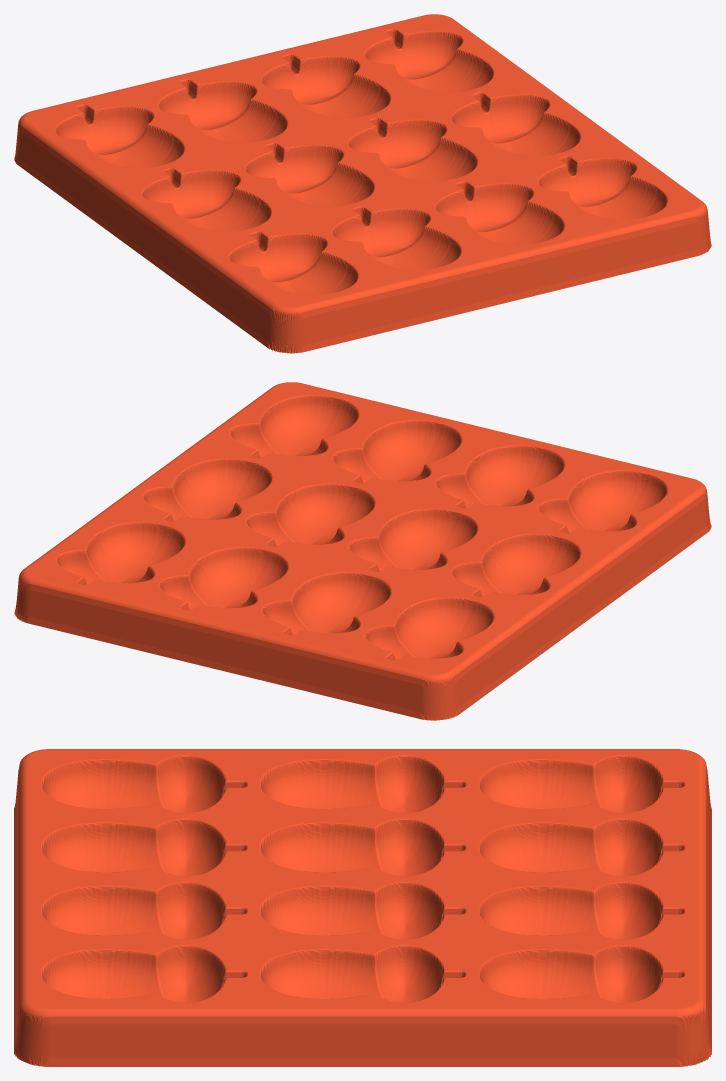
File: mold.glb
3 views of the same model, one above another, from view 1: azimuth 30°, elevation 25°; view 2: azimuth 150°, elevation 25°; view 3: azimuth 270°, elevation 25° (orthographic). The views are drawn at different scales.
Visible parts, largest first — view 1: geometry_0; view 2: geometry_0; view 3: geometry_0.
Boxes of the visible parts, <box> form: geometry_0: <box>14,14,711,353</box>; geometry_0: <box>14,382,711,720</box>; geometry_0: <box>14,749,711,1066</box>.
Bounding box in the file's own units: 0.161 × 0.0145 × 0.1753.
